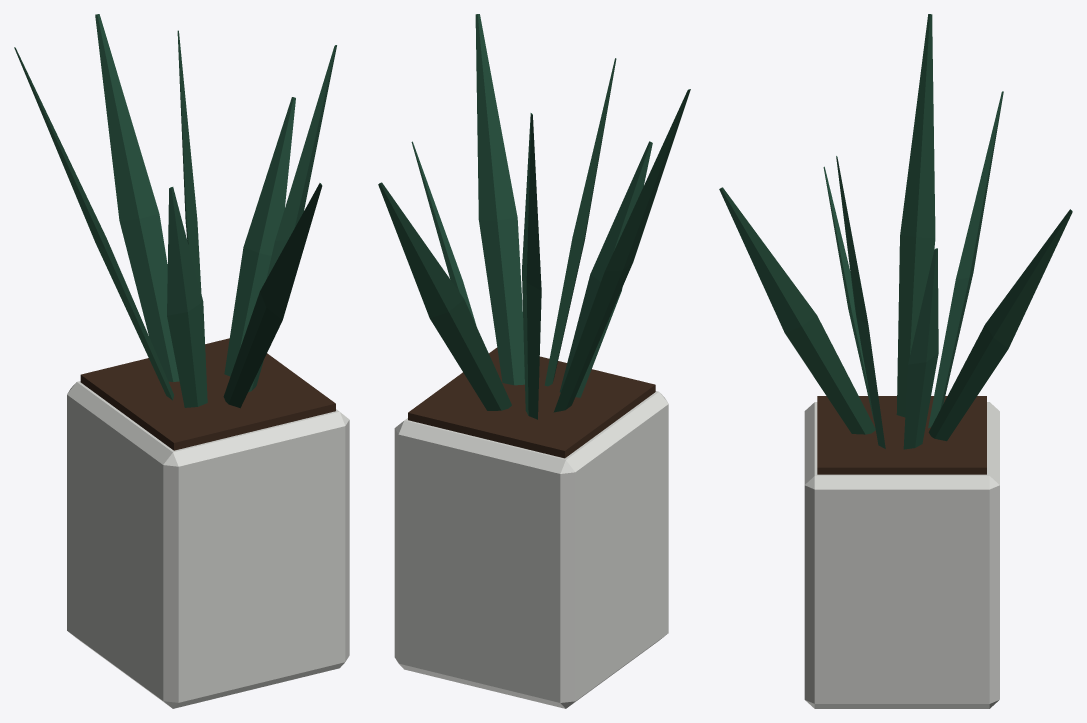
The model's file is planter.glb.
3 views of the same model, side by side, from view 1: azimuth 30°, elevation 25°; view 2: azimuth 150°, elevation 25°; view 3: azimuth 270°, elevation 25° (orthographic). The views are drawn at different scales.
Parts seen in each view (by area): view 1: Maceta, Tierra, Hoja.002, Hoja.004, Hoja, Hoja.005, Hoja.003, Hoja.006, Hoja.001; view 2: Maceta, Tierra, Hoja.006, Hoja.001, Hoja.003, Hoja.002, Hoja.004, Hoja.005, Hoja; view 3: Maceta, Tierra, Hoja.003, Hoja.005, Hoja.001, Hoja, Hoja.002, Hoja.006, Hoja.004.
Part boxes in pixels (x1=…): Maceta: x1=67, y1=381, x2=349, y2=708; Tierra: x1=80, y1=338, x2=335, y2=450; Hoja.002: x1=95, y1=14, x2=179, y2=382; Hoja.004: x1=167, y1=187, x2=207, y2=407; Hoja: x1=224, y1=97, x2=295, y2=376; Hoja.005: x1=223, y1=183, x2=322, y2=408; Hoja.003: x1=14, y1=47, x2=173, y2=400; Hoja.006: x1=248, y1=45, x2=336, y2=391; Hoja.001: x1=177, y1=30, x2=201, y2=294; Maceta: x1=394, y1=391, x2=668, y2=708; Tierra: x1=408, y1=347, x2=655, y2=458; Hoja.006: x1=475, y1=14, x2=524, y2=385; Hoja.001: x1=378, y1=182, x2=511, y2=410; Hoja.003: x1=553, y1=89, x2=690, y2=412; Hoja.002: x1=522, y1=113, x2=541, y2=419; Hoja.004: x1=559, y1=141, x2=652, y2=397; Hoja.005: x1=544, y1=58, x2=616, y2=386; Hoja: x1=411, y1=141, x2=476, y2=325; Maceta: x1=804, y1=402, x2=999, y2=708; Tierra: x1=817, y1=396, x2=986, y2=474; Hoja.003: x1=896, y1=14, x2=935, y2=417; Hoja.005: x1=719, y1=187, x2=875, y2=434; Hoja.001: x1=928, y1=209, x2=1072, y2=441; Hoja: x1=903, y1=248, x2=938, y2=449; Hoja.002: x1=928, y1=91, x2=1003, y2=428; Hoja.006: x1=836, y1=156, x2=885, y2=448; Hoja.004: x1=823, y1=166, x2=873, y2=420.
Size of the model in its own units: 0.5788 by 1.24 by 0.6875.
